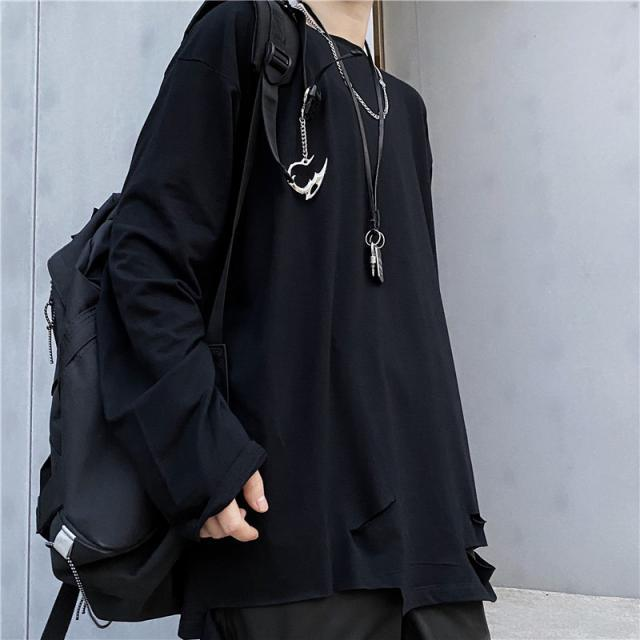Shirt: (93, 0, 488, 599)
